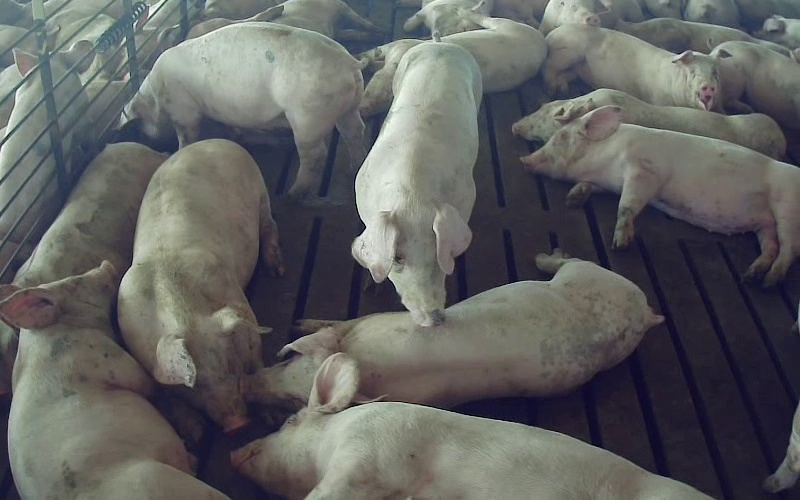pig: (232, 353, 709, 499), (246, 251, 662, 406), (522, 106, 799, 285), (118, 139, 283, 431), (124, 22, 363, 198), (12, 142, 165, 287), (512, 89, 785, 159), (541, 25, 720, 109), (711, 41, 799, 130)
